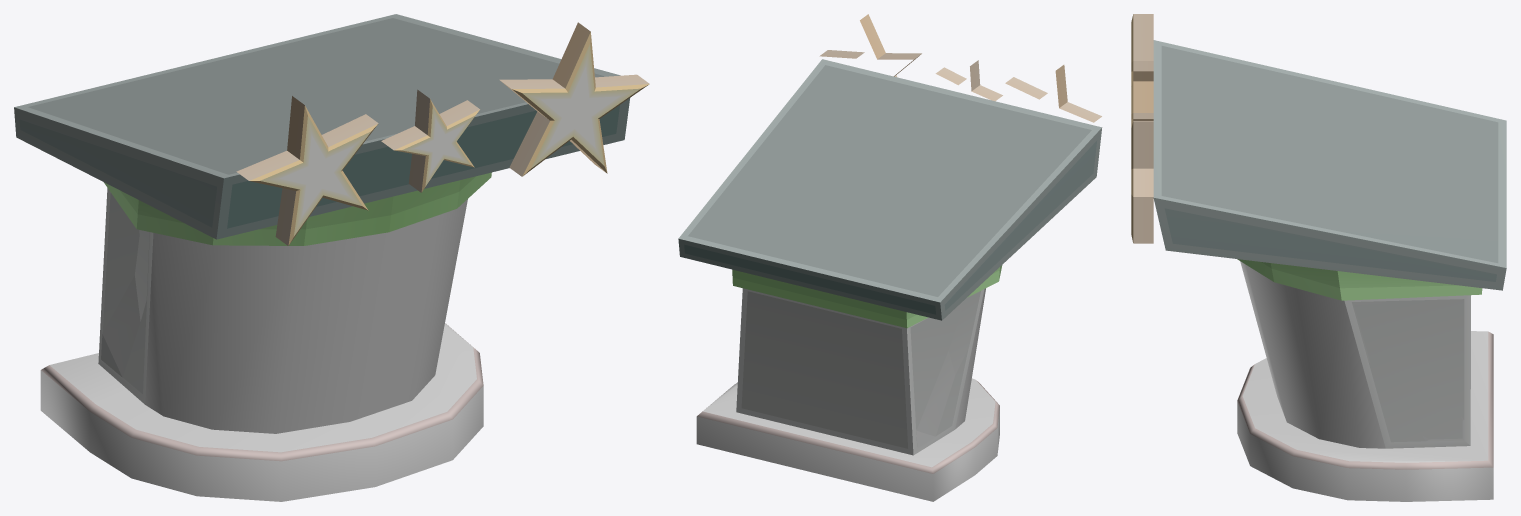
The model's file is RestaurantPodium.glb.
3 views of the same model, side by side, from view 1: azimuth 30°, elevation 25°; view 2: azimuth 150°, elevation 25°; view 3: azimuth 270°, elevation 25° (orthographic). The views are drawn at different scales.
Visible parts, largest first — view 1: RestaurantPodium; view 2: RestaurantPodium; view 3: RestaurantPodium.
Part boxes in pixels (<box>): RestaurantPodium: <box>14,14,649,501</box>; RestaurantPodium: <box>678,14,1102,501</box>; RestaurantPodium: <box>1131,14,1506,501</box>.
Bounding box in the file's own units: 0.6723 × 0.7262 × 0.6688.
